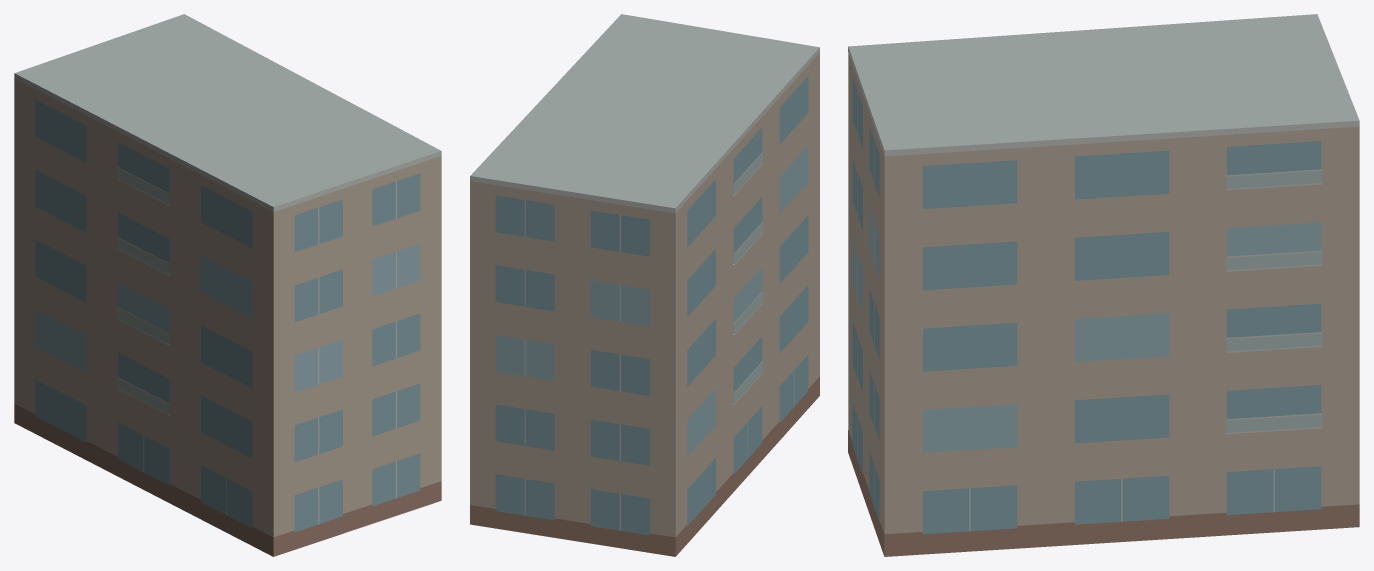
File: survey-upis-32767540.glb
3 views of the same model, side by side, from view 1: azimuth 30°, elevation 25°; view 2: azimuth 150°, elevation 25°; view 3: azimuth 270°, elevation 25° (orthographic). The views are drawn at different scales.
Parts seen in each view (by area): view 1: survey-upis-32767540.tmp; view 2: survey-upis-32767540.tmp; view 3: survey-upis-32767540.tmp.
Boxes of the visible parts, <box> form: survey-upis-32767540.tmp: <box>14,14,441,556</box>; survey-upis-32767540.tmp: <box>470,14,819,556</box>; survey-upis-32767540.tmp: <box>848,14,1359,556</box>.
Bounding box in the file's own units: 11.96 × 16.6 × 18.94.
